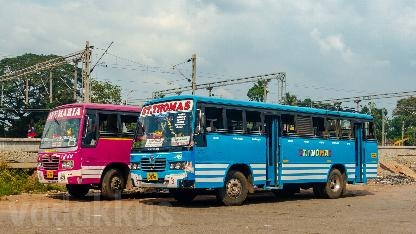bus: (130, 96, 380, 206), (35, 97, 132, 204)
